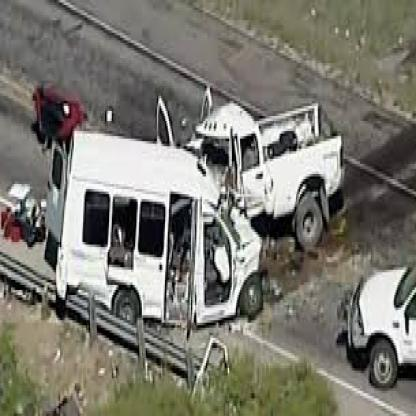accident: (32, 79, 347, 355)
